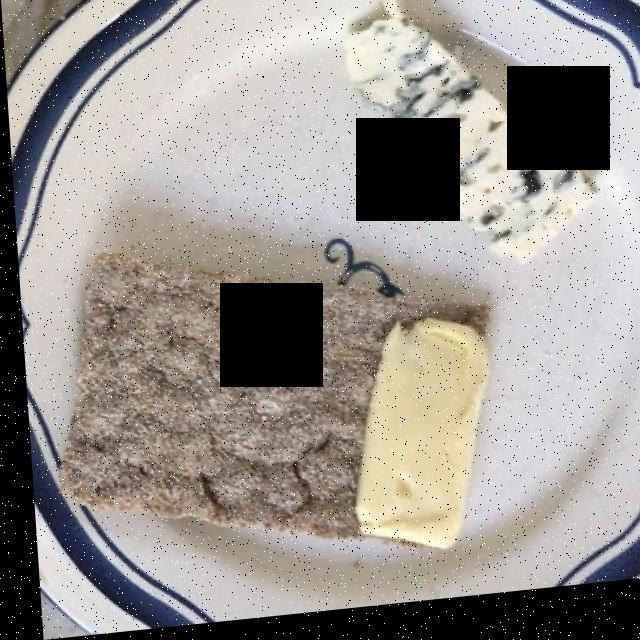butter: (343, 302, 479, 577)
cheese: (348, 5, 593, 264)
